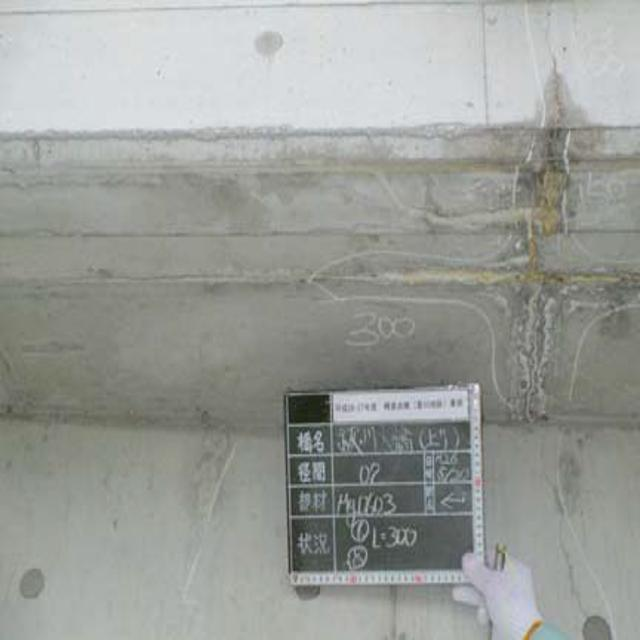freelime: (392, 124, 624, 426)
